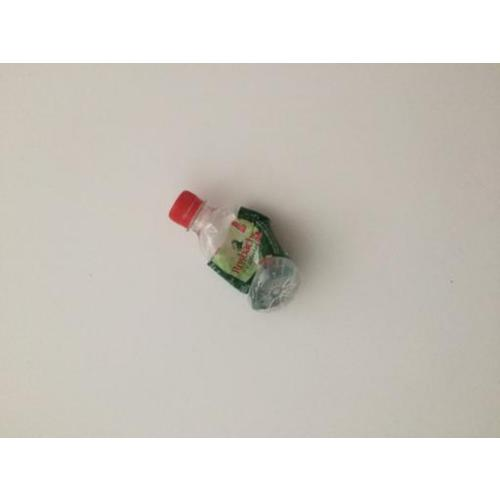plastic: (169, 190, 299, 312)
